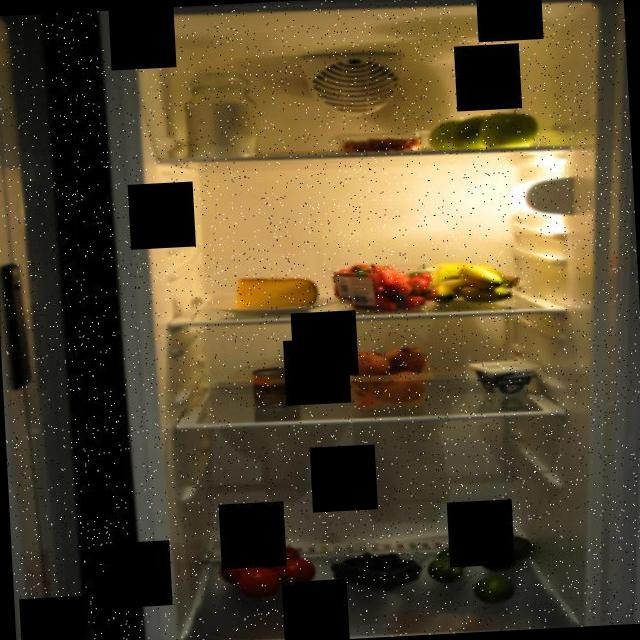Cebolla: (340, 340, 430, 404)
Gambas/Langostinos: (332, 128, 426, 156)
Manzana: (428, 104, 543, 154)
Plátano: (429, 256, 534, 307)
Queso: (228, 271, 322, 317)
Tomate: (215, 531, 318, 602)
